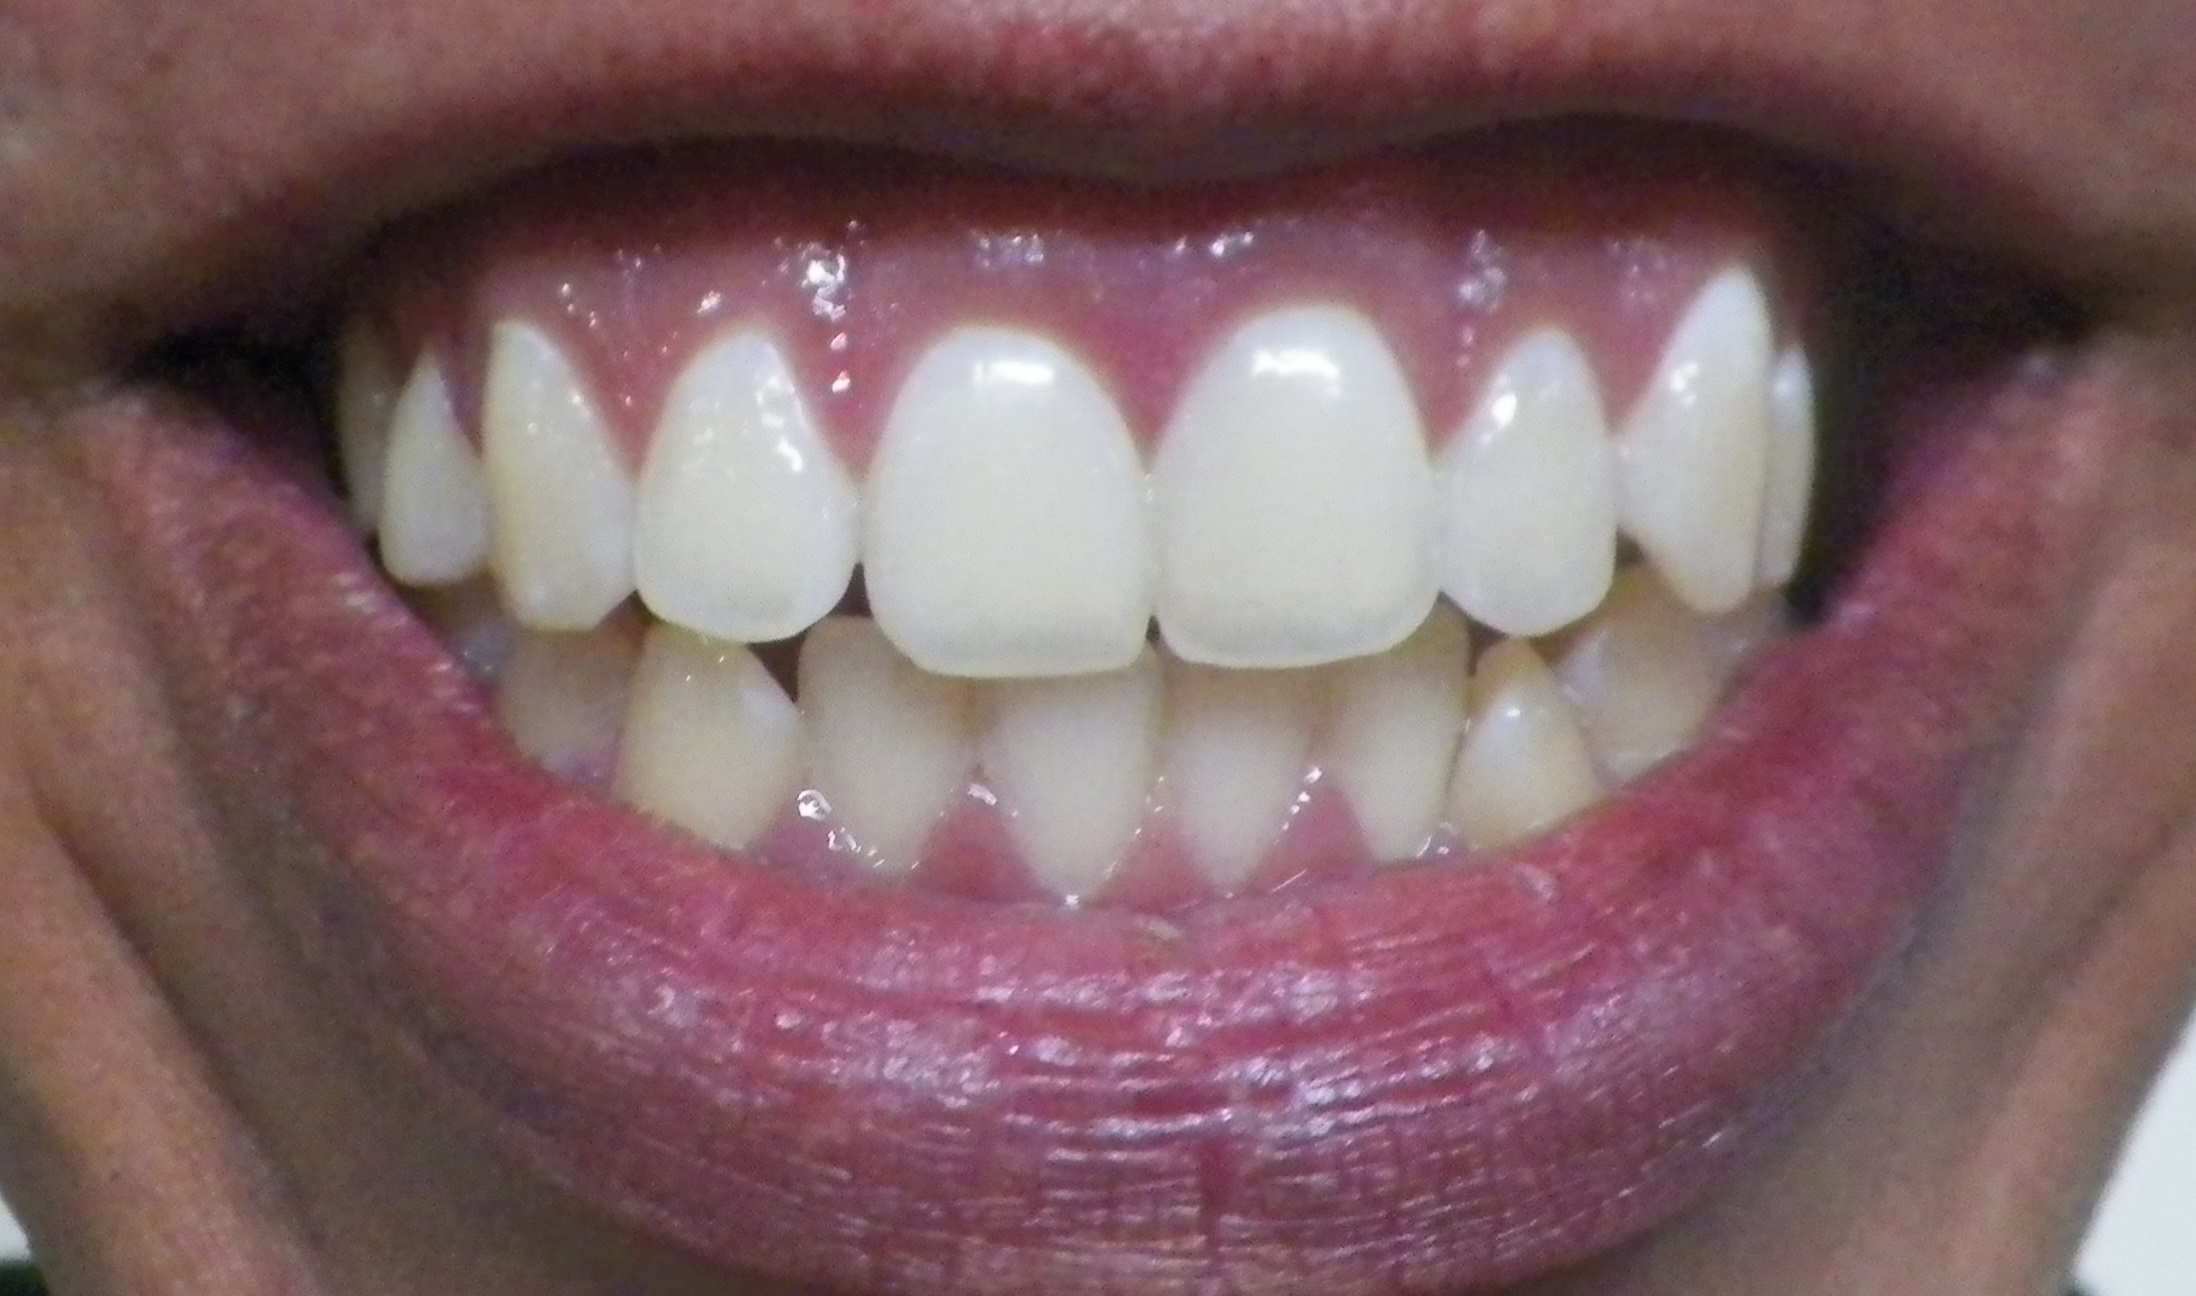boca: (288, 268, 1823, 892)
